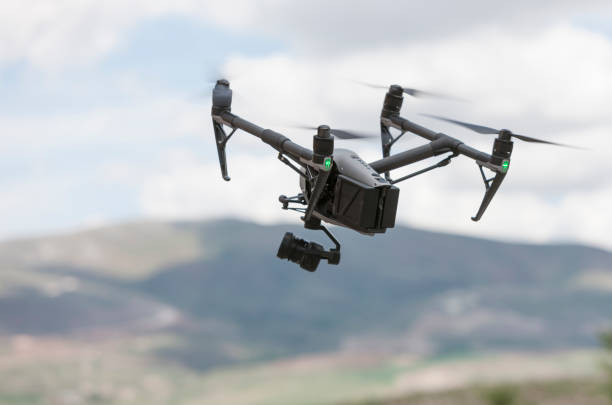Drone: (192, 66, 592, 285)
